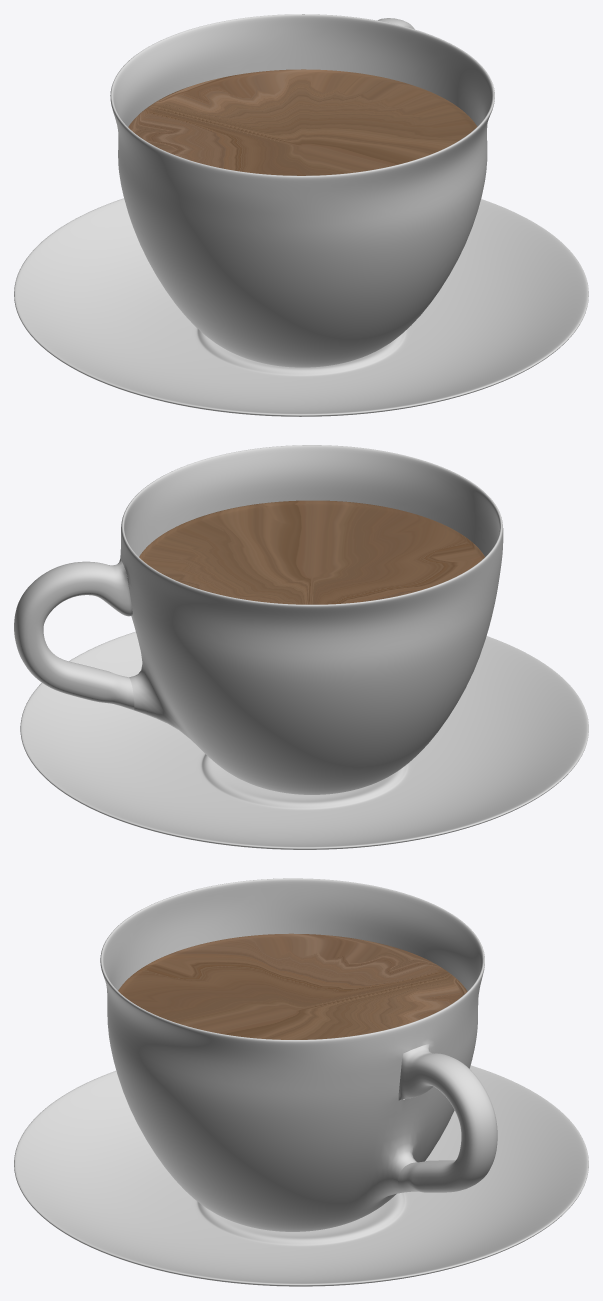
File: Coffee.fbx
3 views of the same model, one above another, from view 1: azimuth 30°, elevation 25°; view 2: azimuth 150°, elevation 25°; view 3: azimuth 270°, elevation 25° (orthographic).
Visible parts, largest first — view 1: Coffee; view 2: Coffee; view 3: Coffee.
Part boxes in pixels (x1,y1,x2,y2): Coffee: (14,14,588,416); Coffee: (14,445,588,849); Coffee: (14,878,588,1286).
Bounding box in the file's own units: 14.04 × 6.58 × 14.04.
